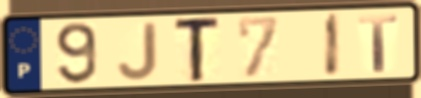7: (235, 15, 280, 80)
9: (54, 21, 100, 86)
I: (323, 12, 343, 79)
J: (116, 20, 160, 82)
T: (172, 14, 224, 84), (357, 13, 401, 74)
